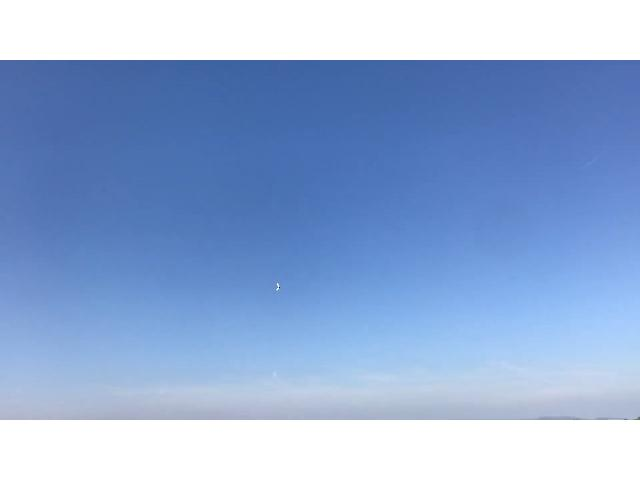Anti-Drone: (271, 272, 289, 296)
